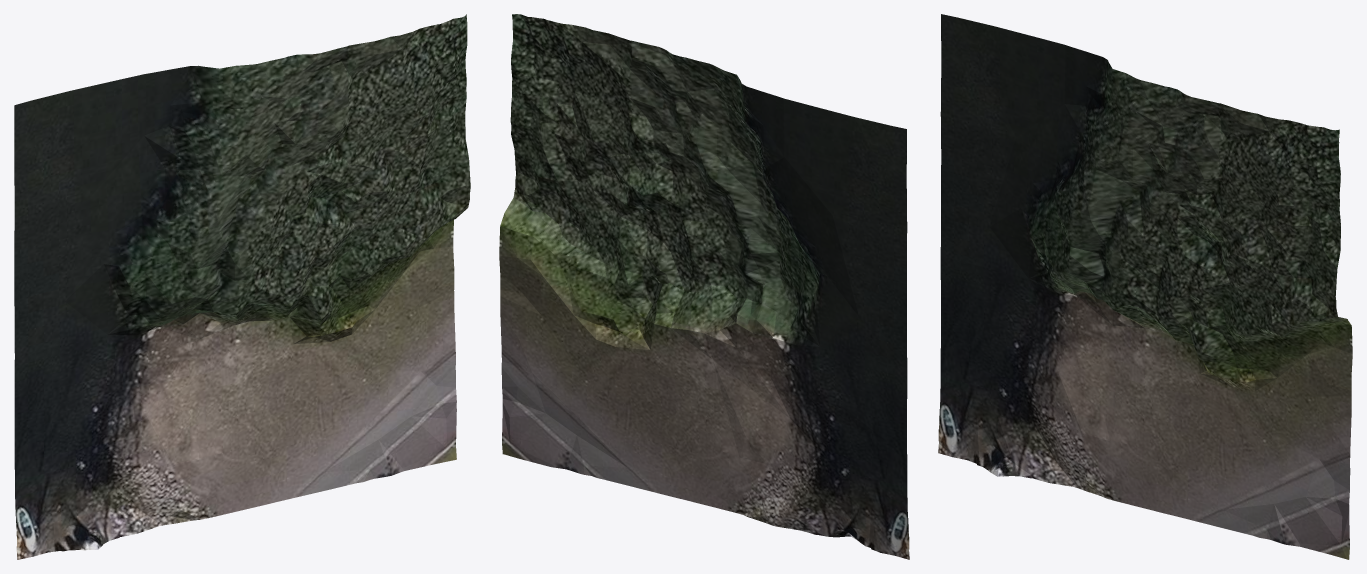
The model's file is Tile_+032_+024_L20_0001200.obj.
3 views of the same model, side by side, from view 1: azimuth 30°, elevation 25°; view 2: azimuth 150°, elevation 25°; view 3: azimuth 330°, elevation 25° (orthographic). The views are drawn at different scales.
Bounding box in the file's own units: 31.5 × 31.5 × 3.5.
1 material, 1 textured.
